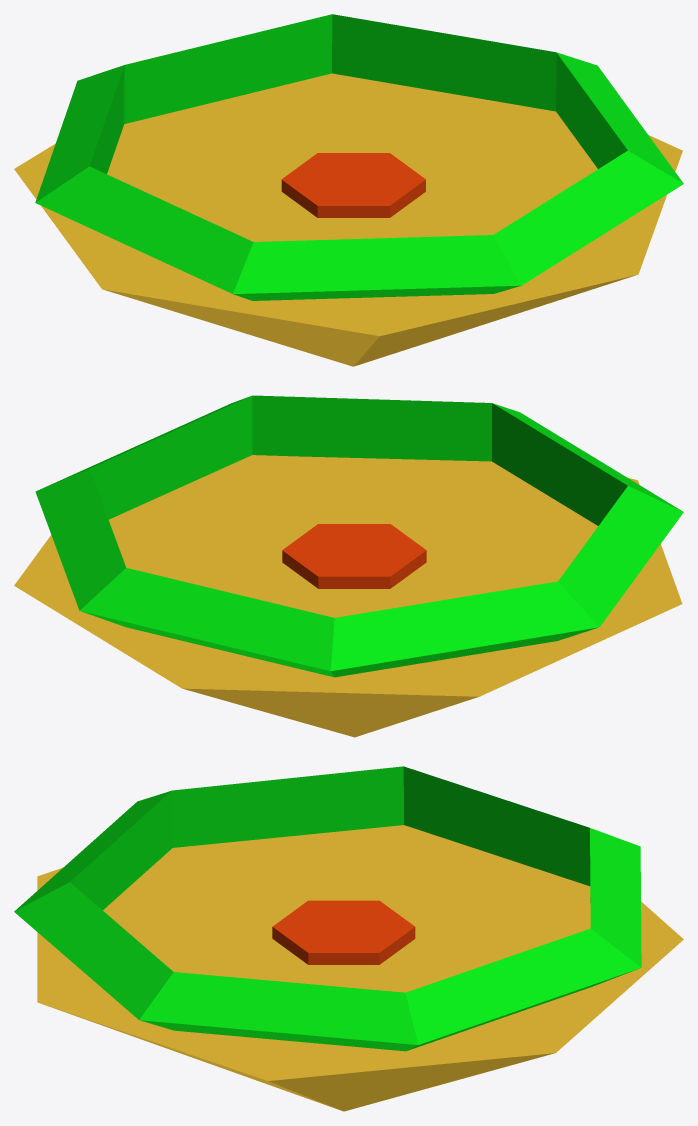
File: blade2.glb
3 views of the same model, one above another, from view 1: azimuth 30°, elevation 25°; view 2: azimuth 150°, elevation 25°; view 3: azimuth 270°, elevation 25° (orthographic).
Visible parts, largest first — view 1: Cone, Torus, Cylinder; view 2: Cone, Torus, Cylinder; view 3: Cone, Torus, Cylinder.
Boxes of the visible parts, x1,y1,x2,y2 form: Cone: (14,73,682,366); Torus: (35,14,683,300); Cylinder: (281,153,425,217); Cone: (14,455,682,737); Torus: (35,395,683,677); Cylinder: (282,524,426,588); Cone: (37,825,683,1111); Torus: (14,766,641,1051); Cylinder: (272,900,415,964).
Bounding box in the file's own units: 1.95 × 0.7575 × 1.97.
